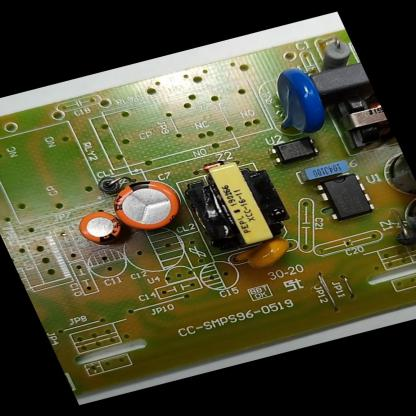Cap1: (101, 172, 191, 239)
Cap2: (68, 204, 130, 251)
Cap3: (376, 142, 416, 204)
Cap4: (390, 193, 415, 259)
MOSFET: (311, 169, 381, 225)
Mov: (251, 63, 334, 142)
Resistor: (309, 34, 361, 75)
Transformer: (173, 150, 305, 260), (325, 90, 397, 154)
